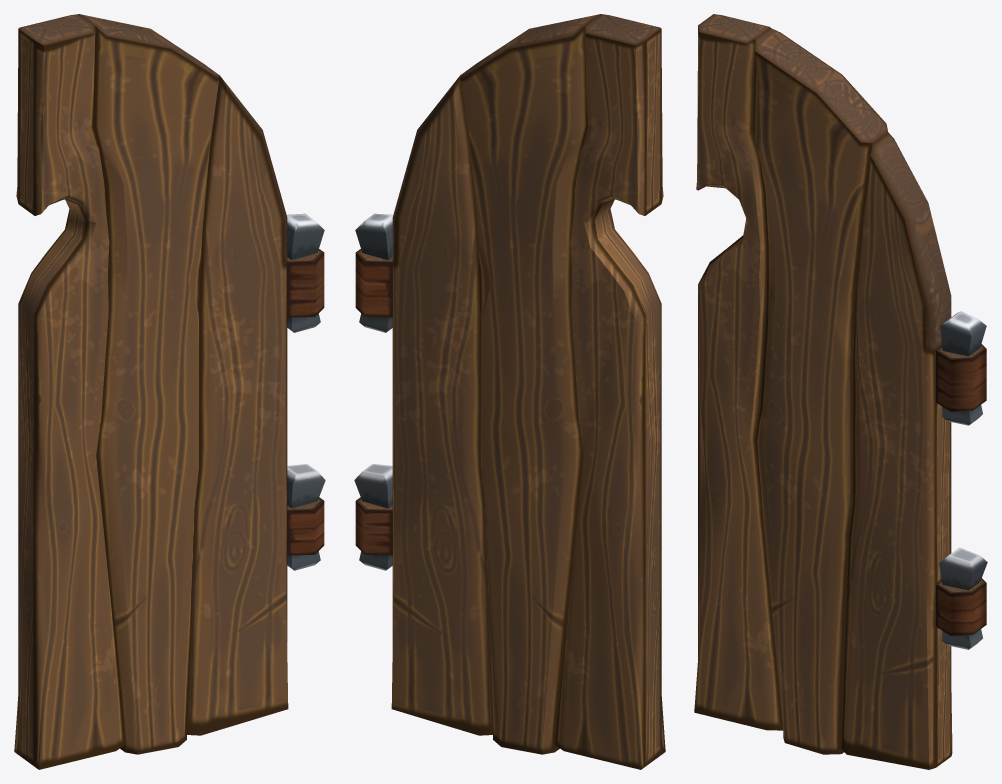
File: Window_Shutter 1.fbx
3 renders of one model, left to right at view 1: azimuth 30°, elevation 25°; view 2: azimuth 150°, elevation 25°; view 3: azimuth 330°, elevation 25°, orthographic. The views are drawn at different scales.
Parts seen in each view (by area): view 1: polySurface2; view 2: polySurface2; view 3: polySurface2.
Part boxes in pixels (x1,y1,x2,y2): polySurface2: (14, 14, 325, 769); polySurface2: (354, 14, 665, 769); polySurface2: (694, 14, 987, 769).
Bounding box in the file's own units: 2.03 × 4.91 × 0.3477.
